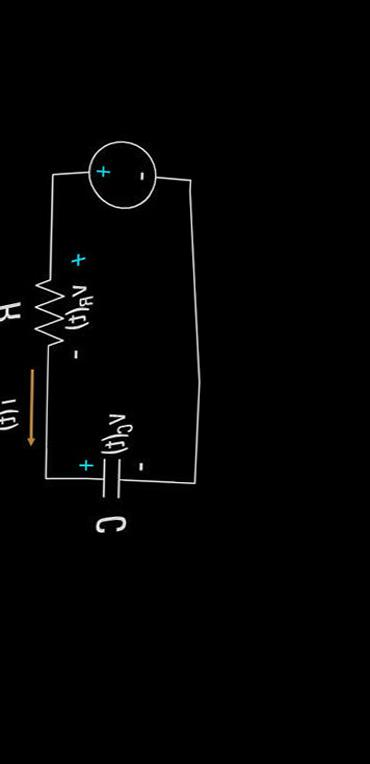Battery: (68, 114, 172, 242)
